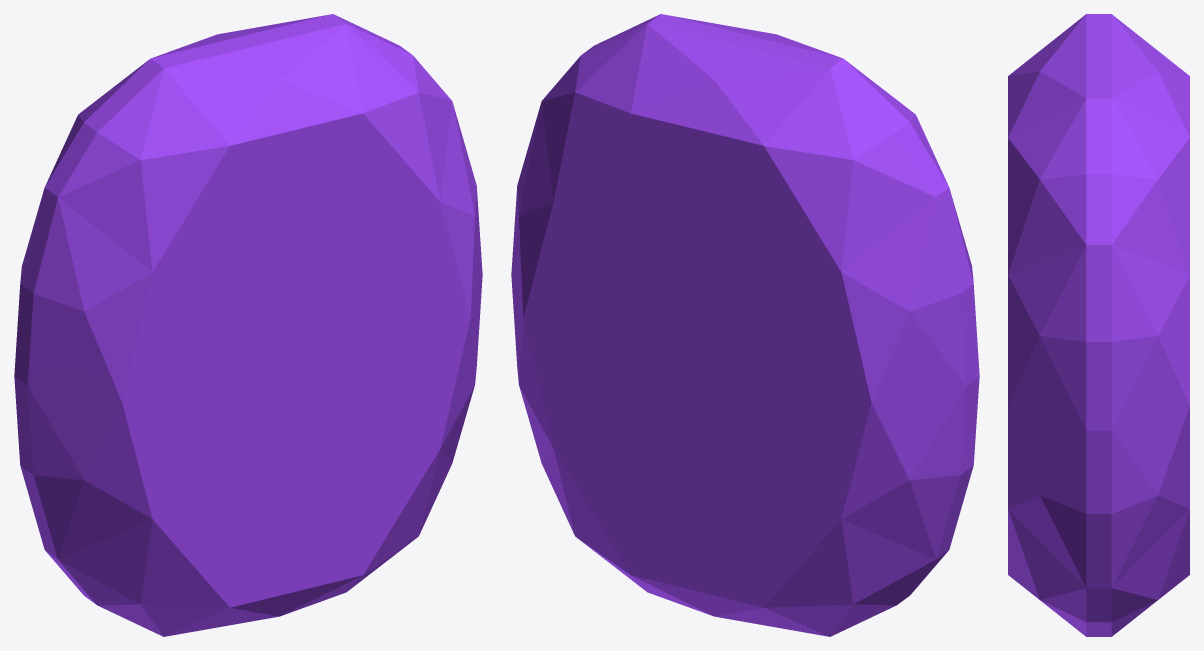
Rendered from jewel2_Amethyst.fbx.
3 renders of one model, left to right at view 1: azimuth 30°, elevation 25°; view 2: azimuth 150°, elevation 25°; view 3: azimuth 270°, elevation 25°, orthographic. The views are drawn at different scales.
Parts seen in each view (by area): view 1: jewel2_Amethyst; view 2: jewel2_Amethyst; view 3: jewel2_Amethyst.
Part boxes in pixels (x1=…): jewel2_Amethyst: x1=14, y1=14, x2=482, y2=636; jewel2_Amethyst: x1=511, y1=14, x2=979, y2=636; jewel2_Amethyst: x1=1008, y1=14, x2=1189, y2=636.
Size of the model in its own units: 0.5201 by 0.6212 by 0.19.
